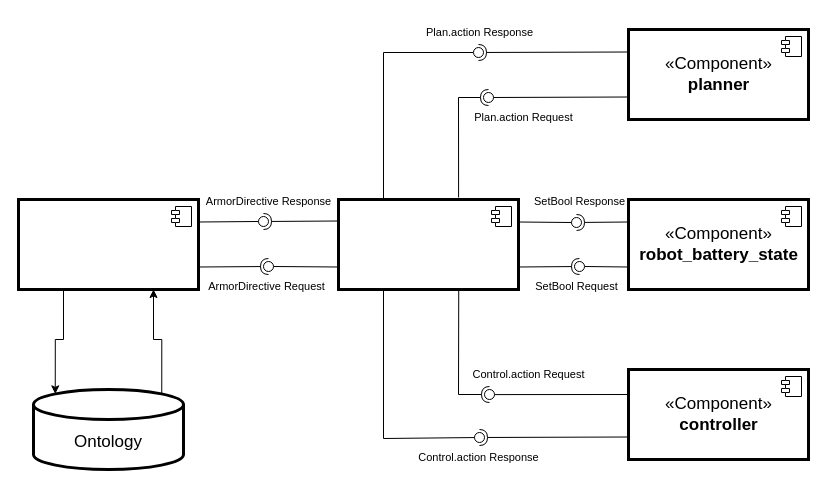
Image size: 827x489. Some labels were removed from this diagram. Each missing label, with the box of its shape:
«Component» ARMOR: (16, 198, 200, 290)
«Component» state_machine: (336, 198, 520, 290)
